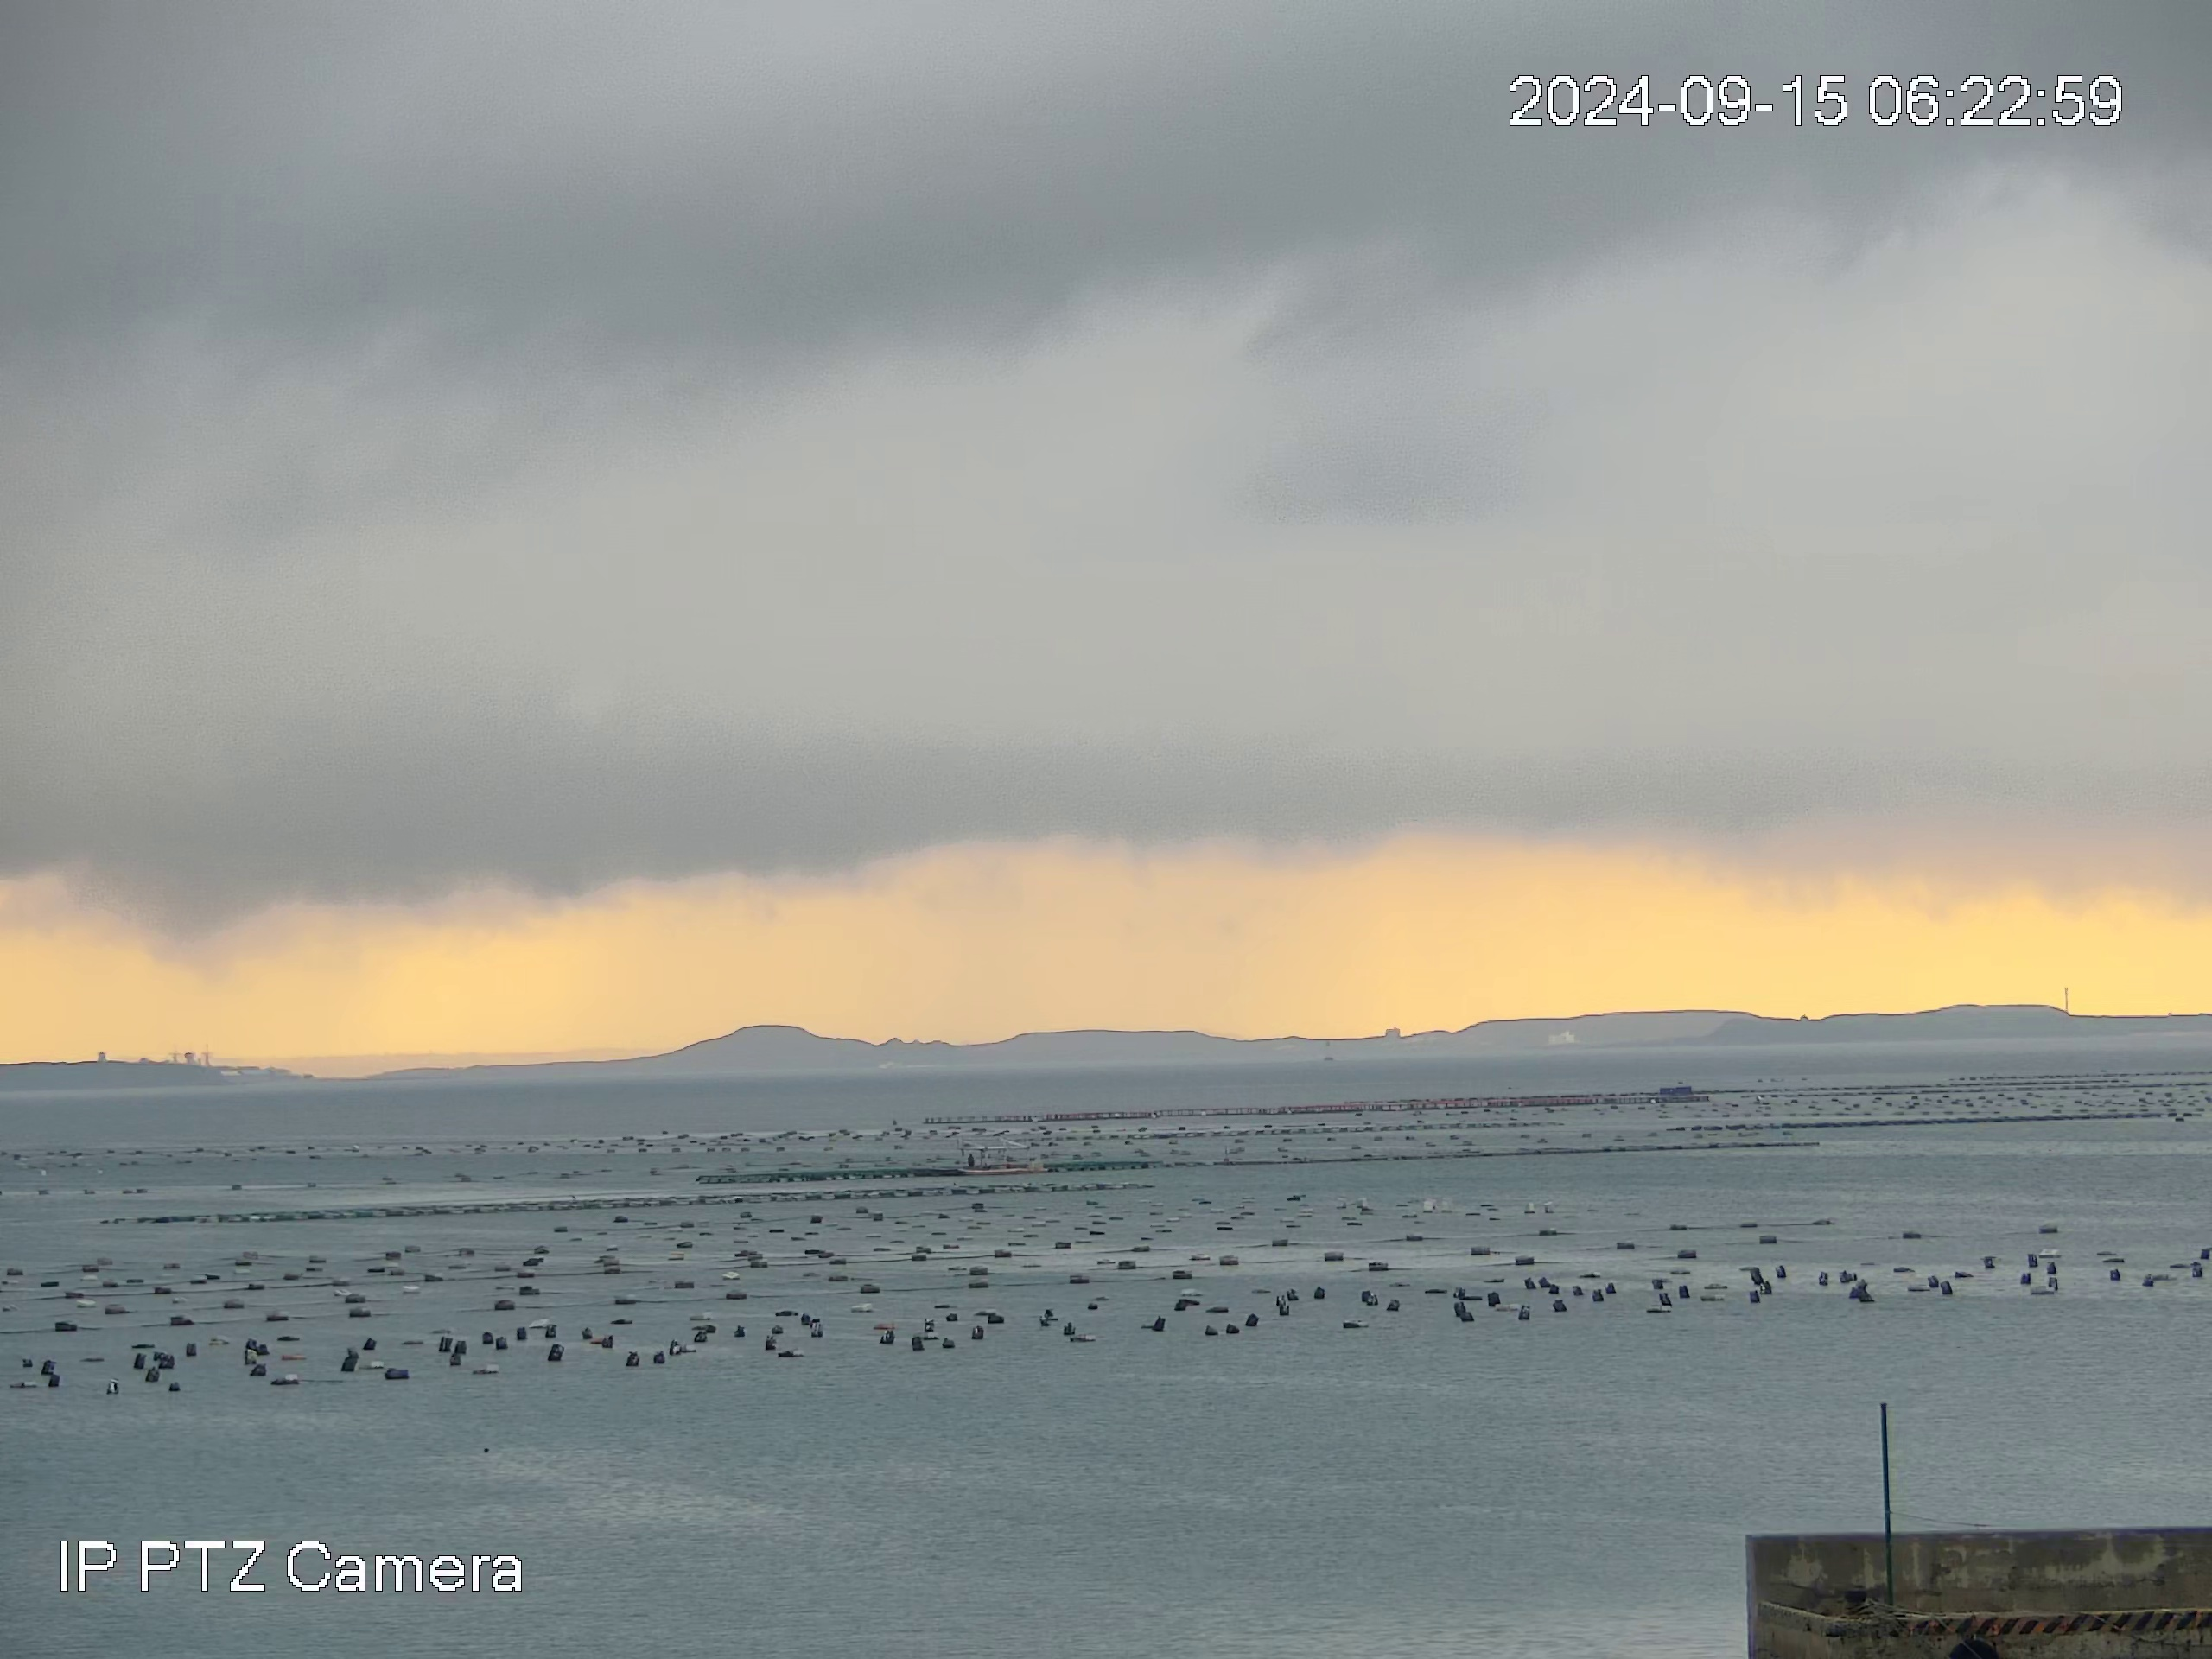boat: (961, 1138, 1050, 1176)
